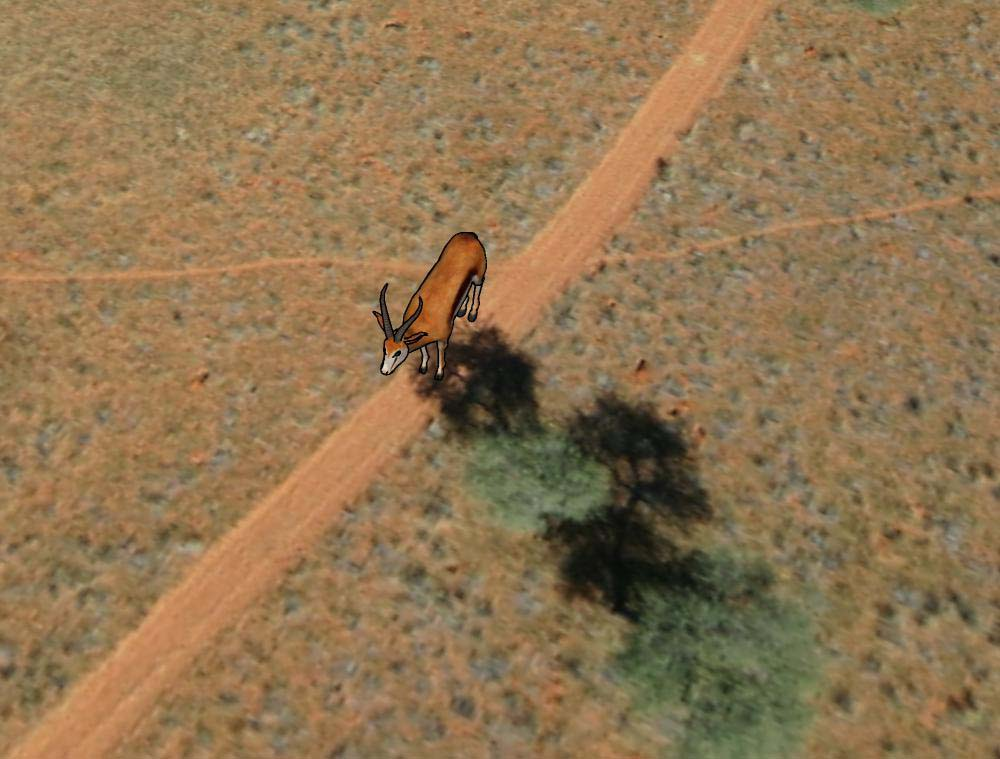springbok: (366, 229, 492, 384)
